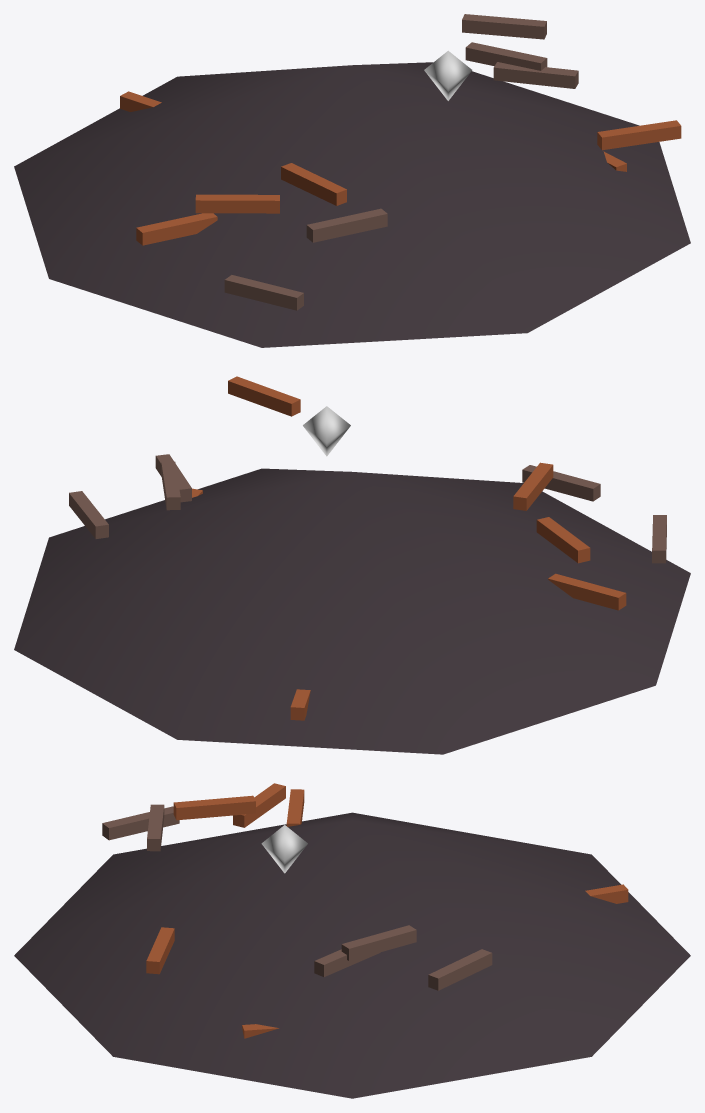
The model's file is ing_iron_filings.gltf.
The picture shows the model from 3 angles, top to bottom: view 1: azimuth 30°, elevation 25°; view 2: azimuth 150°, elevation 25°; view 3: azimuth 270°, elevation 25°; orthographic projection. The views are drawn at different scales.
Parts seen in each view (by area): view 1: ing_iron_filings; view 2: ing_iron_filings; view 3: ing_iron_filings.
Boxes of the visible parts, box(x1,y1,x2,y2) form: ing_iron_filings: box(14, 14, 690, 347); ing_iron_filings: box(14, 376, 690, 754); ing_iron_filings: box(14, 783, 690, 1098).
Size of what is drawn, in the model's own units: 0.1 by 0.029 by 0.1.
